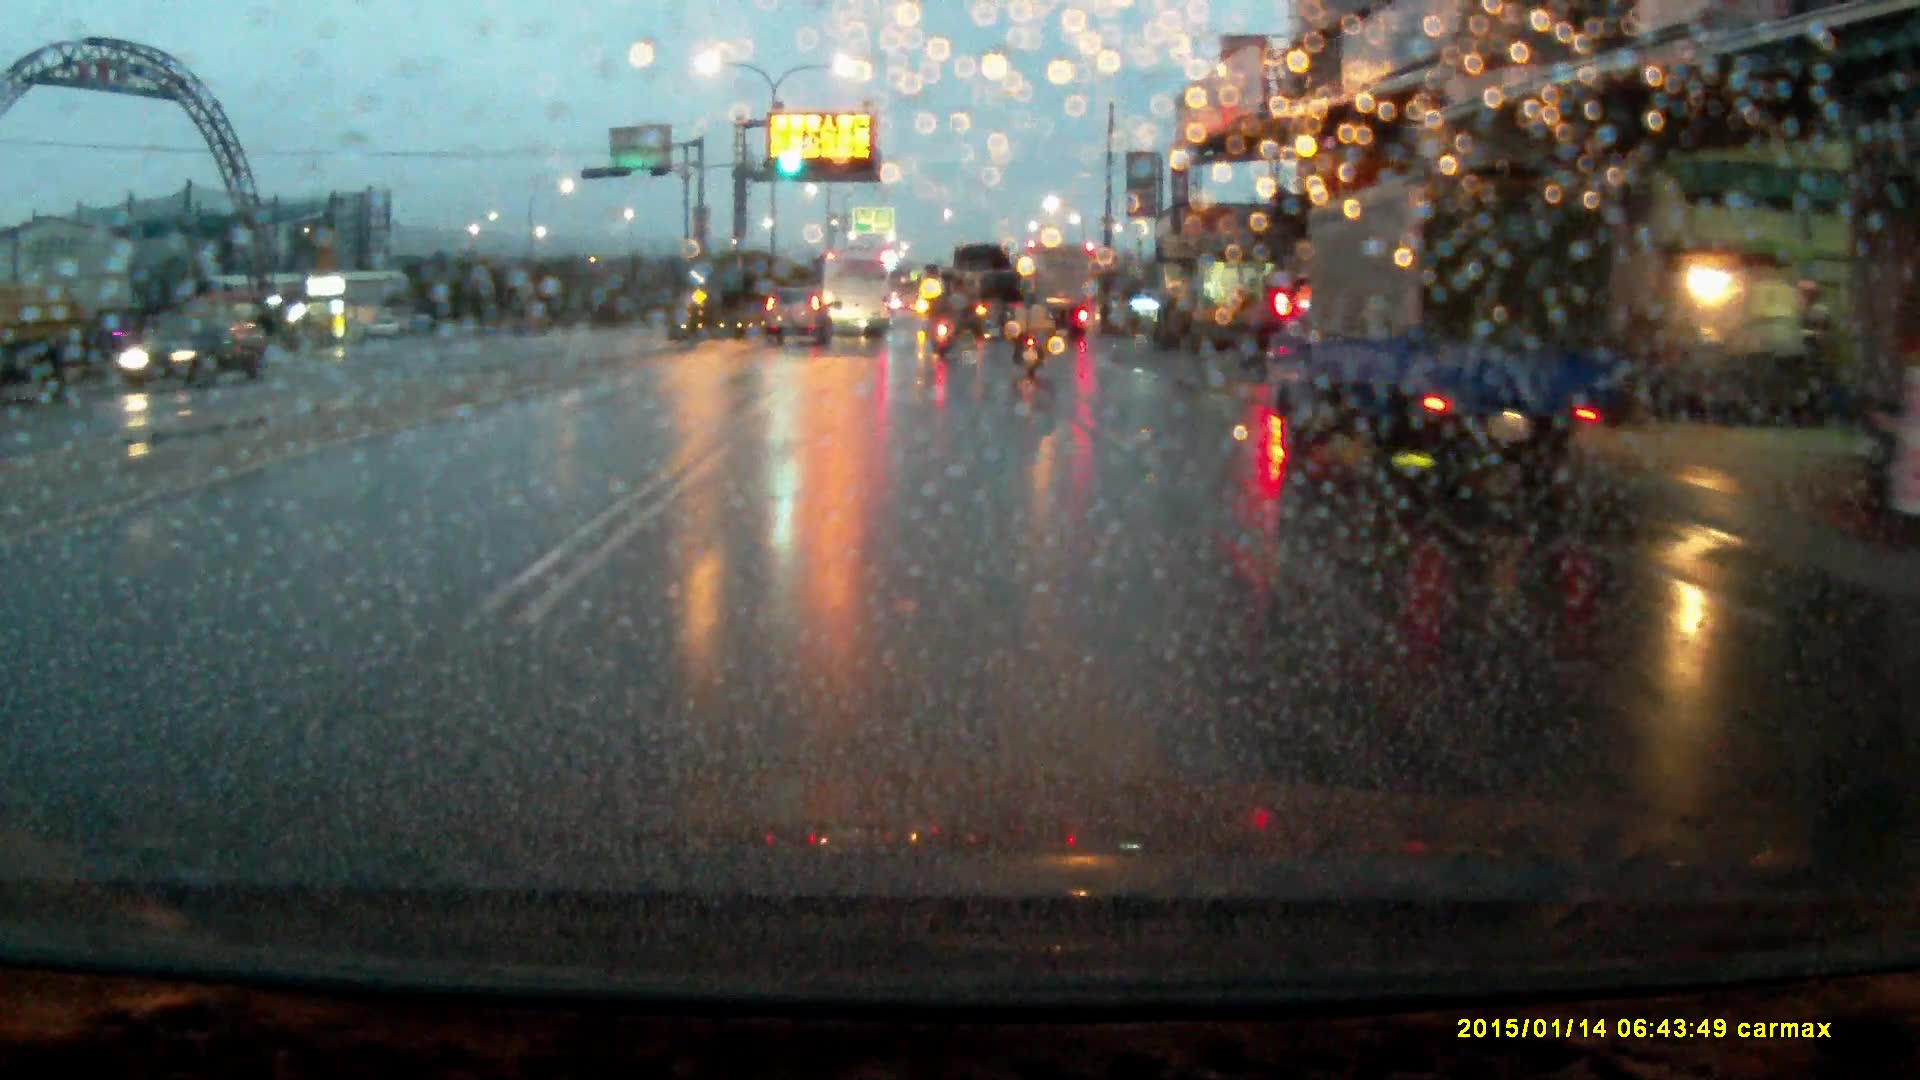rider: (1008, 287, 1051, 382), (930, 288, 957, 359)
vehicle: (1254, 168, 1627, 491), (116, 318, 259, 395), (947, 244, 1020, 339), (821, 249, 894, 333), (1026, 244, 1096, 331), (765, 286, 832, 342)
